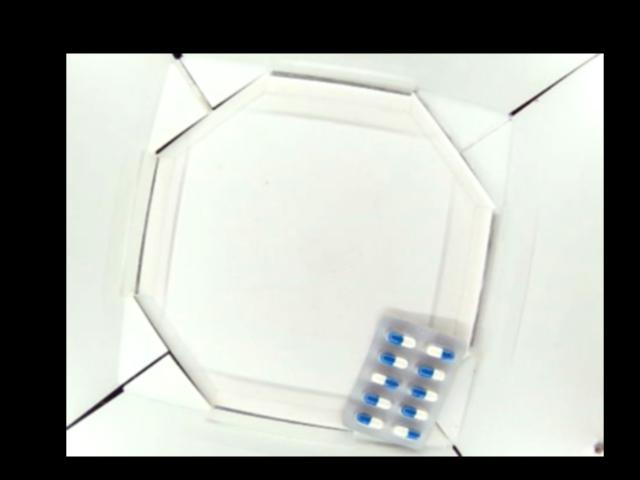Medicine: (340, 314, 466, 446)
